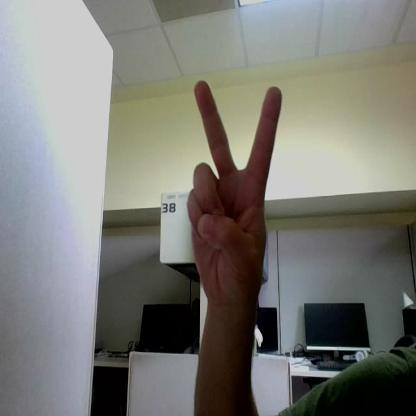V: (188, 81, 281, 298)
